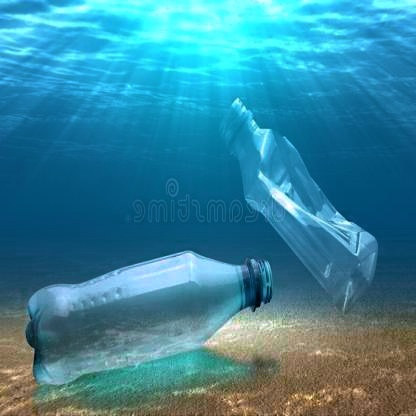pbottle: (220, 98, 380, 316), (24, 251, 273, 387)
